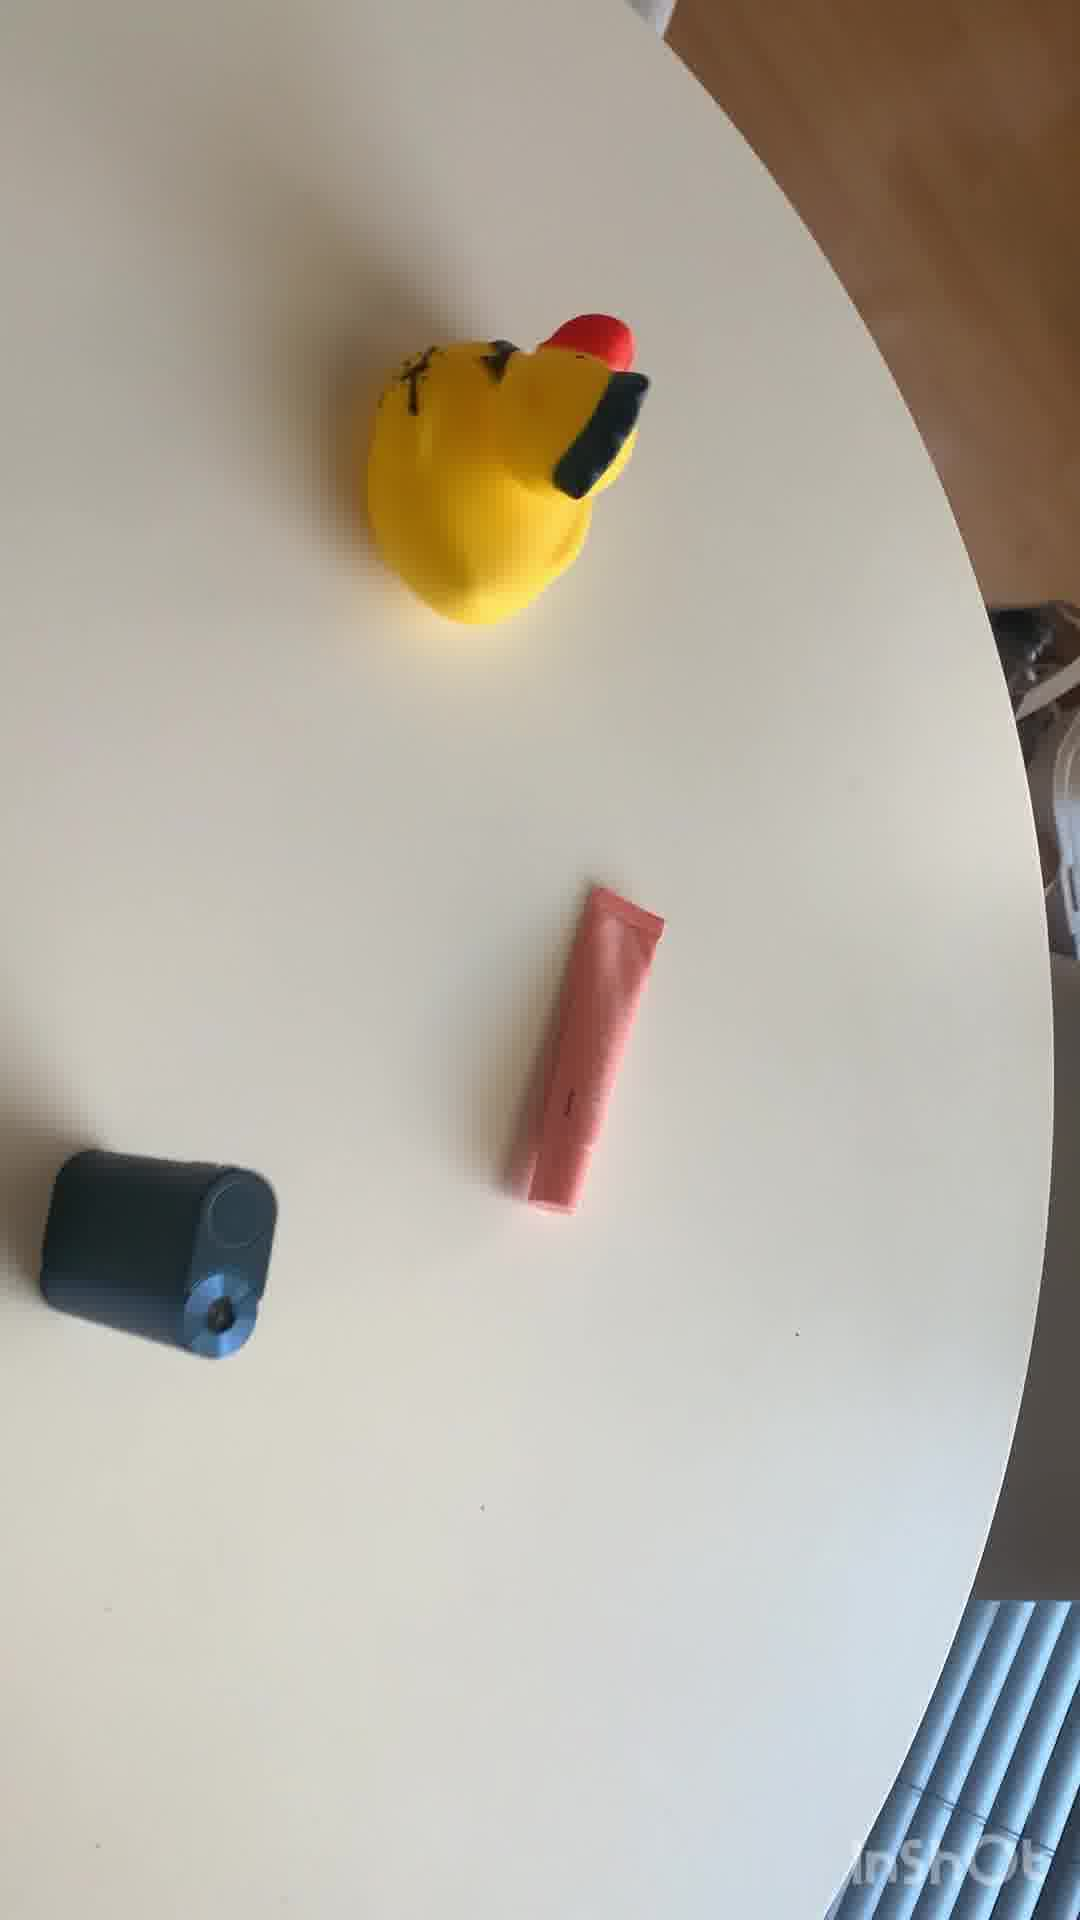duck: (372, 309, 646, 634)
glo: (41, 1146, 290, 1362)
lip balm: (524, 882, 680, 1222)
